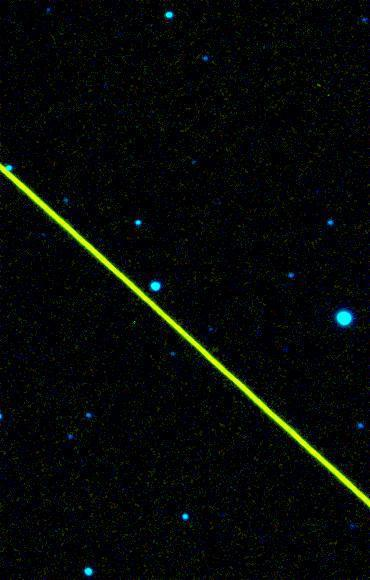star: (337, 509, 367, 539)
